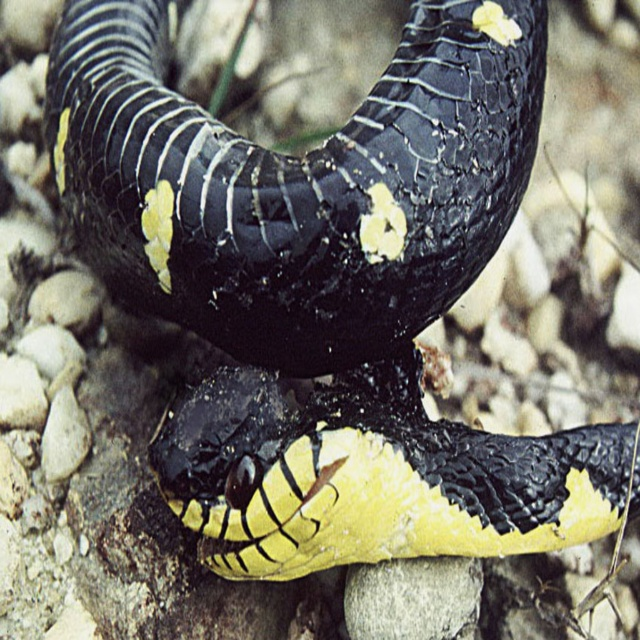Snake: (45, 0, 640, 581)
